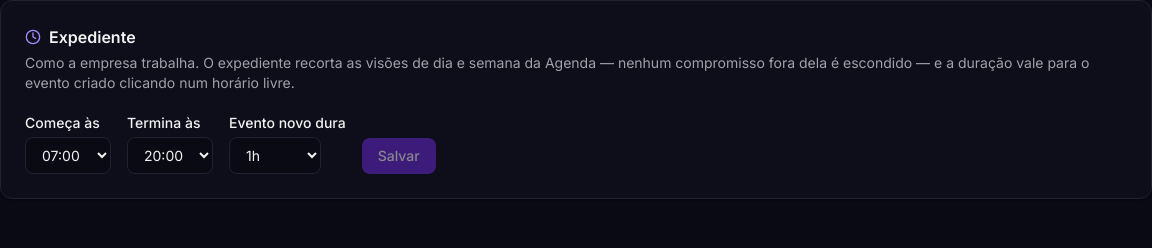
Scenario: Expediente invertido › começar e terminar na mesma hora também não vale
Select "09:00" in the dropdown labelled "Começa às" at (68, 156), box [25, 137, 111, 174]
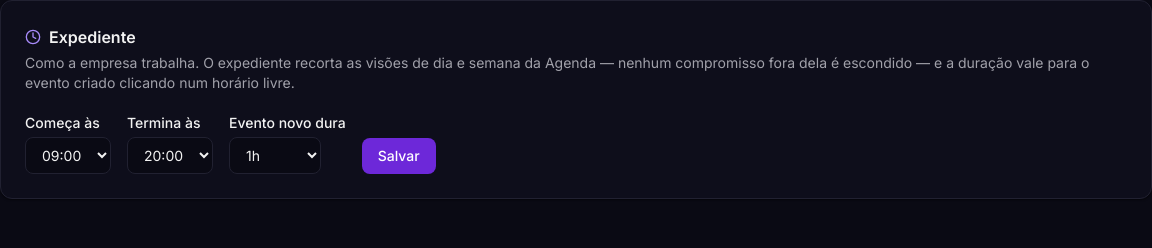
Select "09:00" in the dropdown labelled "Termina às" at (170, 156), box [127, 137, 213, 174]
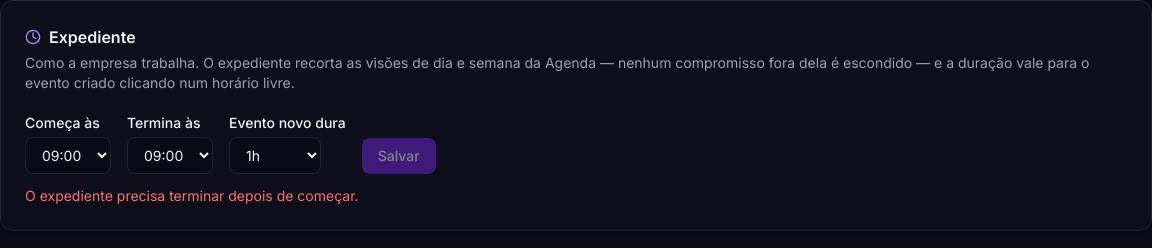
Check: the button "Salvar" is disabled, box [362, 138, 436, 174]
